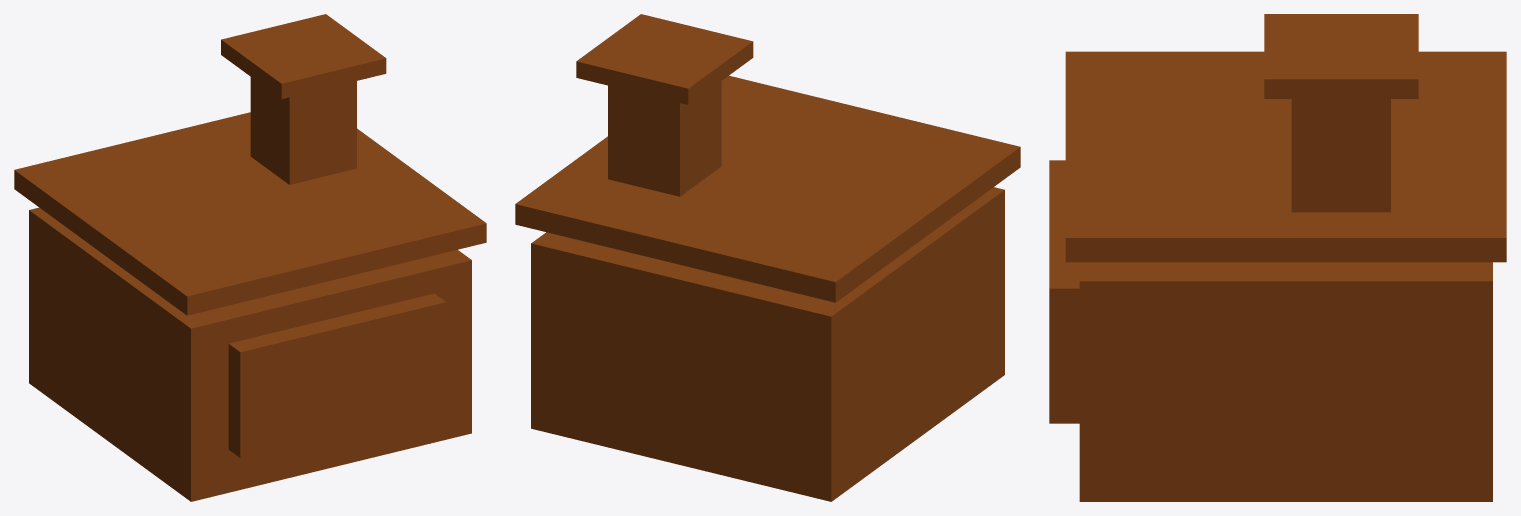
The model's file is smoker.glb.
3 renders of one model, left to right at view 1: azimuth 30°, elevation 25°; view 2: azimuth 150°, elevation 25°; view 3: azimuth 270°, elevation 25°, orthographic. The views are drawn at different scales.
Visible parts, largest first — view 1: module.smoker; view 2: module.smoker; view 3: module.smoker.
Boxes of the visible parts, <box> form: module.smoker: <box>14,14,486,501</box>; module.smoker: <box>515,14,1020,501</box>; module.smoker: <box>1049,14,1506,501</box>.
Size of the model in its own units: 0.9639 by 1 by 1.
